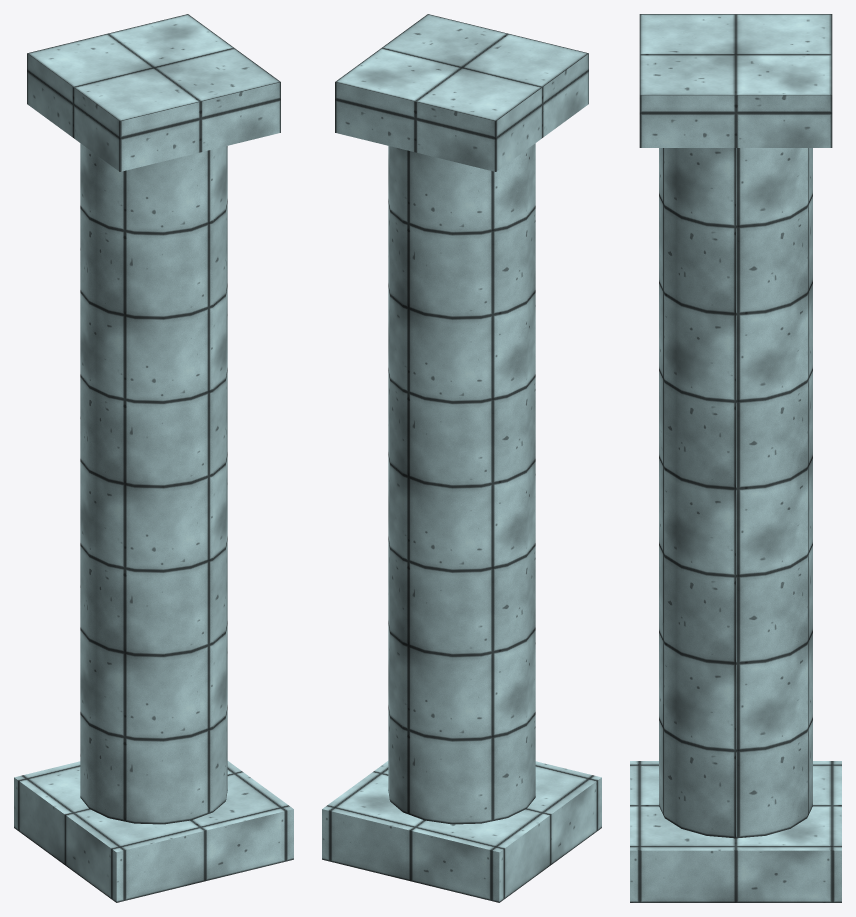
The model's file is pillar.glb.
The picture shows the model from 3 angles, left to right: view 1: azimuth 30°, elevation 25°; view 2: azimuth 150°, elevation 25°; view 3: azimuth 270°, elevation 25°; orthographic projection. The views are drawn at different scales.
Visible parts, largest first — view 1: pillar; view 2: pillar; view 3: pillar.
Part boxes in pixels (x1,y1,x2,y2): pillar: (14,14,293,902); pillar: (322,14,601,902); pillar: (630,14,841,902).
Size of the model in its own units: 1.1 by 4.6 by 1.1.
1 material, 1 textured.
